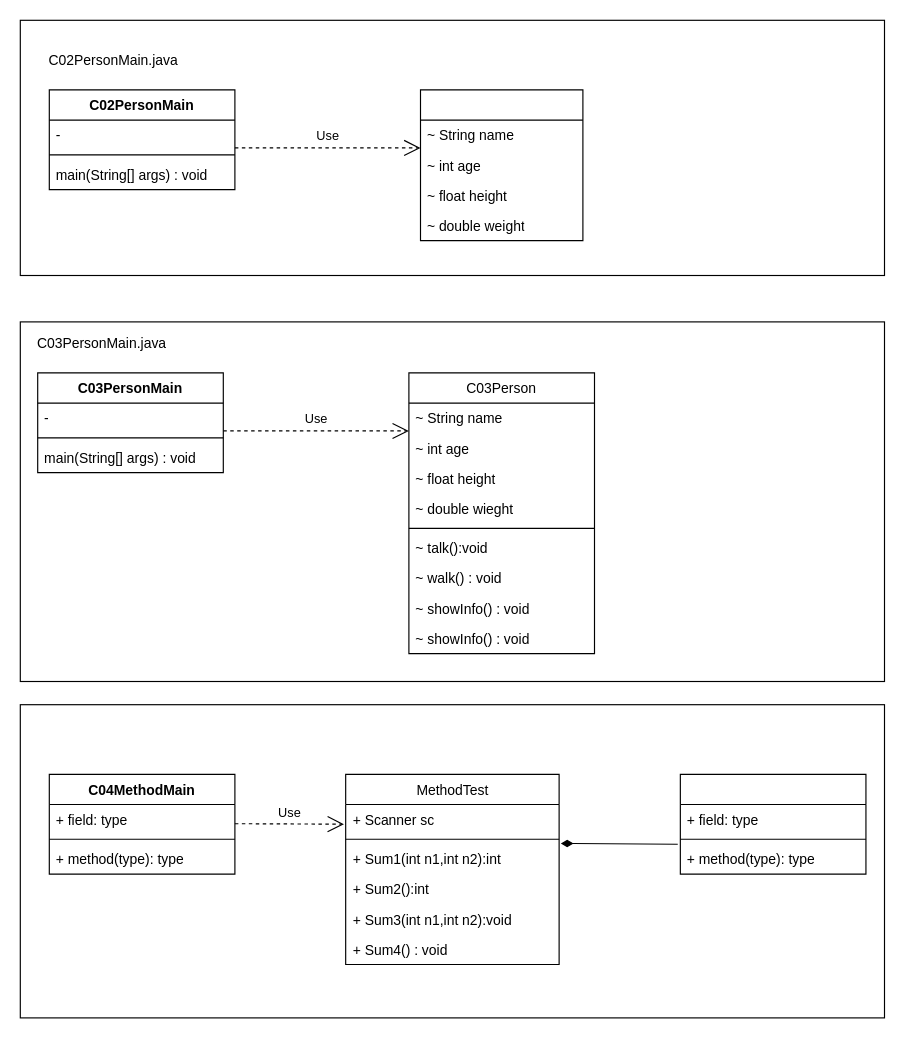
Some shapes in this 905 by 1038 pixel diagram are drawn without their labels. Here are the shapes that lost their labels. From the top down, the box of each, then its label:
(419, 89, 583, 241): C02Person
(679, 773, 866, 874): Scanner
